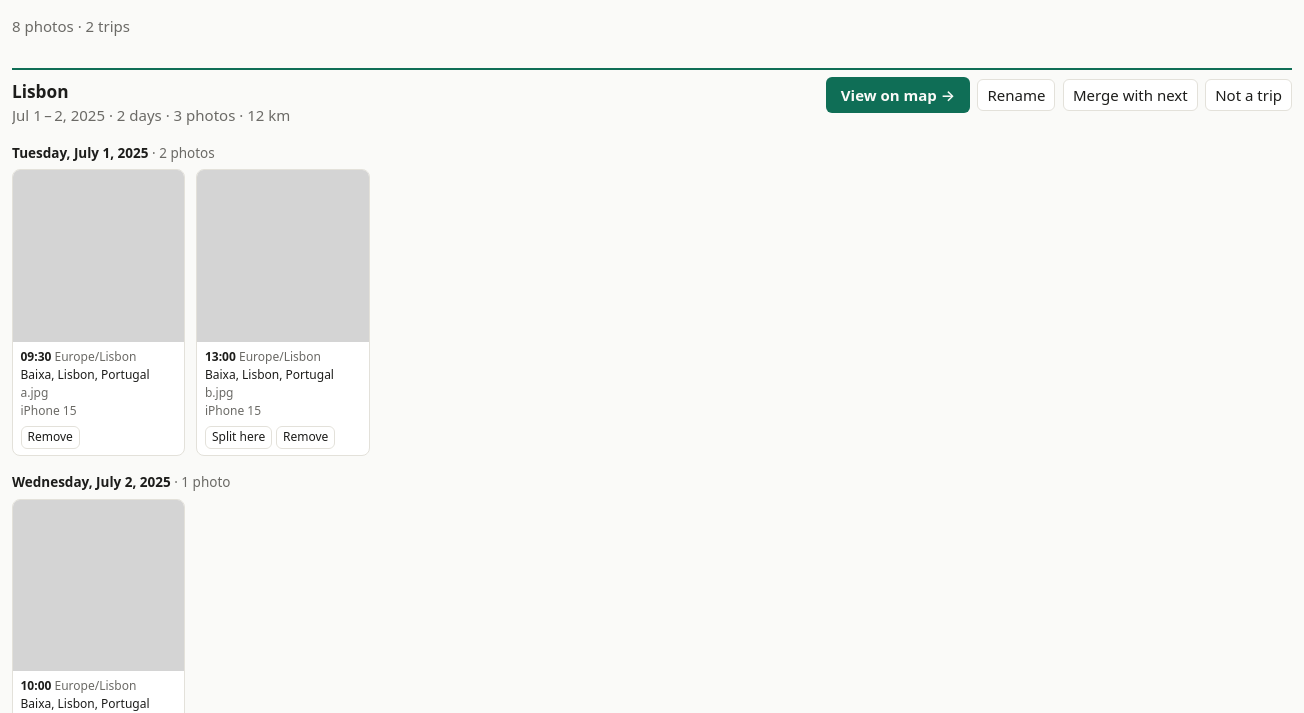
Test case: trip edits › shows a failed edit, keeps the old data, and re-enables the buttons
Click the button "Merge with next" at [1130, 95], box [1063,79,1198,111]
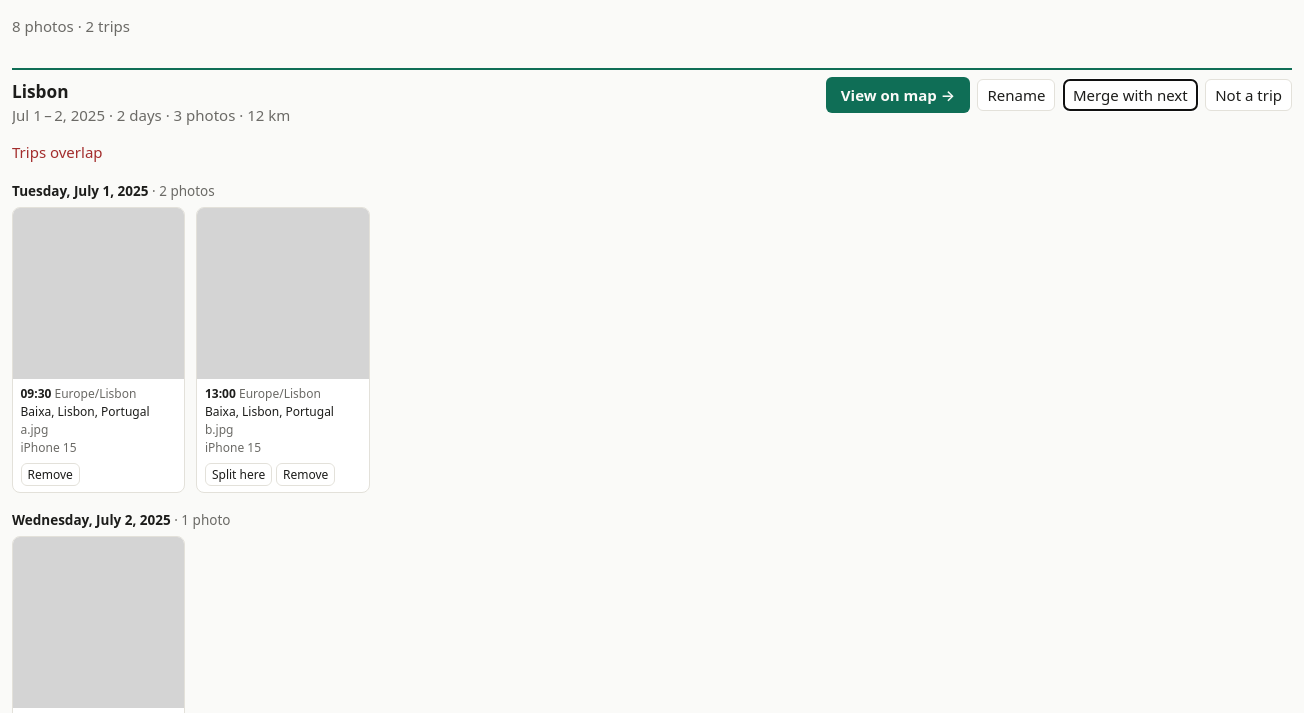
Check: the message reads "Trips overlap", box [12,142,102,162]
